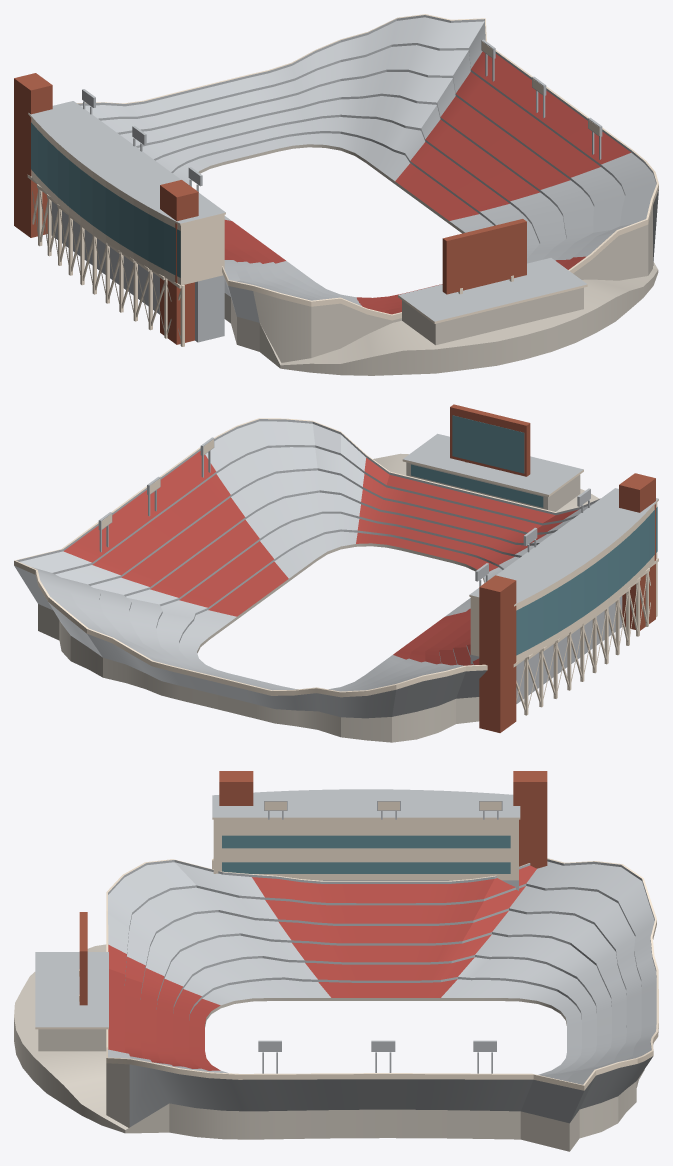
The model's file is slc-rice-eccles-stadium.glb.
The picture shows the model from 3 angles, top to bottom: view 1: azimuth 30°, elevation 25°; view 2: azimuth 150°, elevation 25°; view 3: azimuth 270°, elevation 25°; orthographic projection. The views are drawn at different scales.
Visible parts, largest first — view 1: Rice-Eccles Stadium; view 2: Rice-Eccles Stadium; view 3: Rice-Eccles Stadium.
Boxes of the visible parts, left/top/right/bottom form: Rice-Eccles Stadium: left=14, top=14, right=658, bottom=375; Rice-Eccles Stadium: left=14, top=404, right=658, bottom=742; Rice-Eccles Stadium: left=14, top=771, right=658, bottom=1151.
Size of the model in its own units: 207 by 58 by 228.
